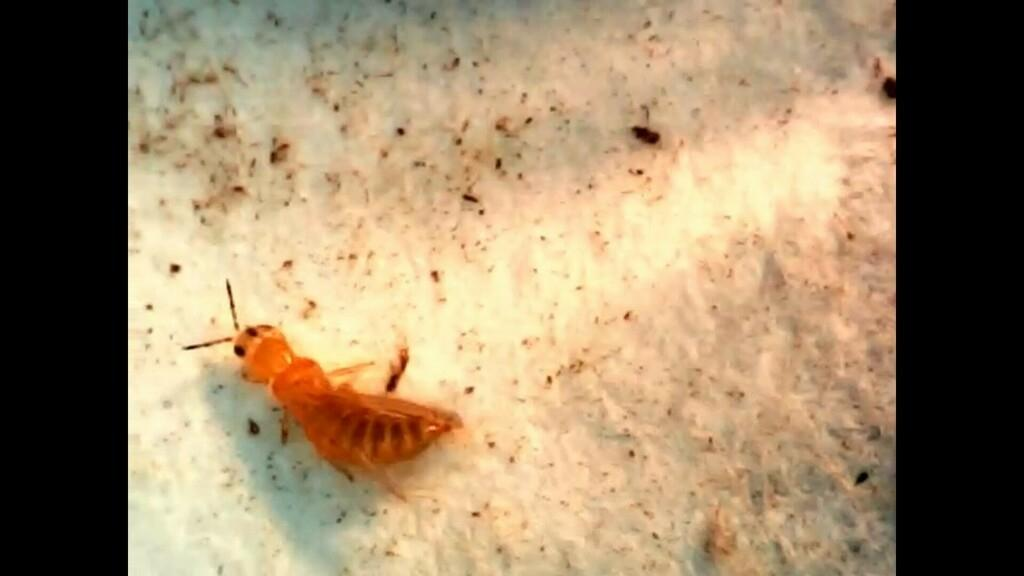tiny_pests: (159, 245, 493, 528)
